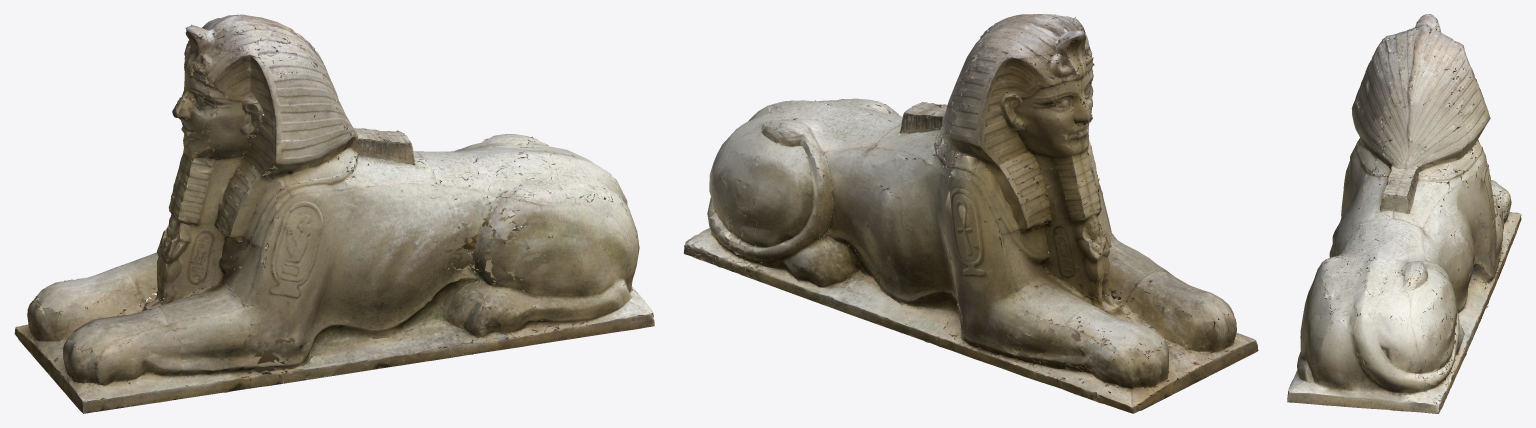
Rendered from sphinx.gltf.
3 views of the same model, side by side, from view 1: azimuth 30°, elevation 25°; view 2: azimuth 150°, elevation 25°; view 3: azimuth 270°, elevation 25° (orthographic). The views are drawn at different scales.
Parts seen in each view (by area): view 1: Object_2; view 2: Object_2; view 3: Object_2.
Part boxes in pixels (left/top/right/bottom): Object_2: left=14, top=14, right=654, bottom=413; Object_2: left=683, top=14, right=1258, bottom=413; Object_2: left=1287, top=14, right=1521, bottom=413.
Bounding box in the file's own units: 46 × 26.02 × 22.12.
Materials: 1 (1 with a texture image).
